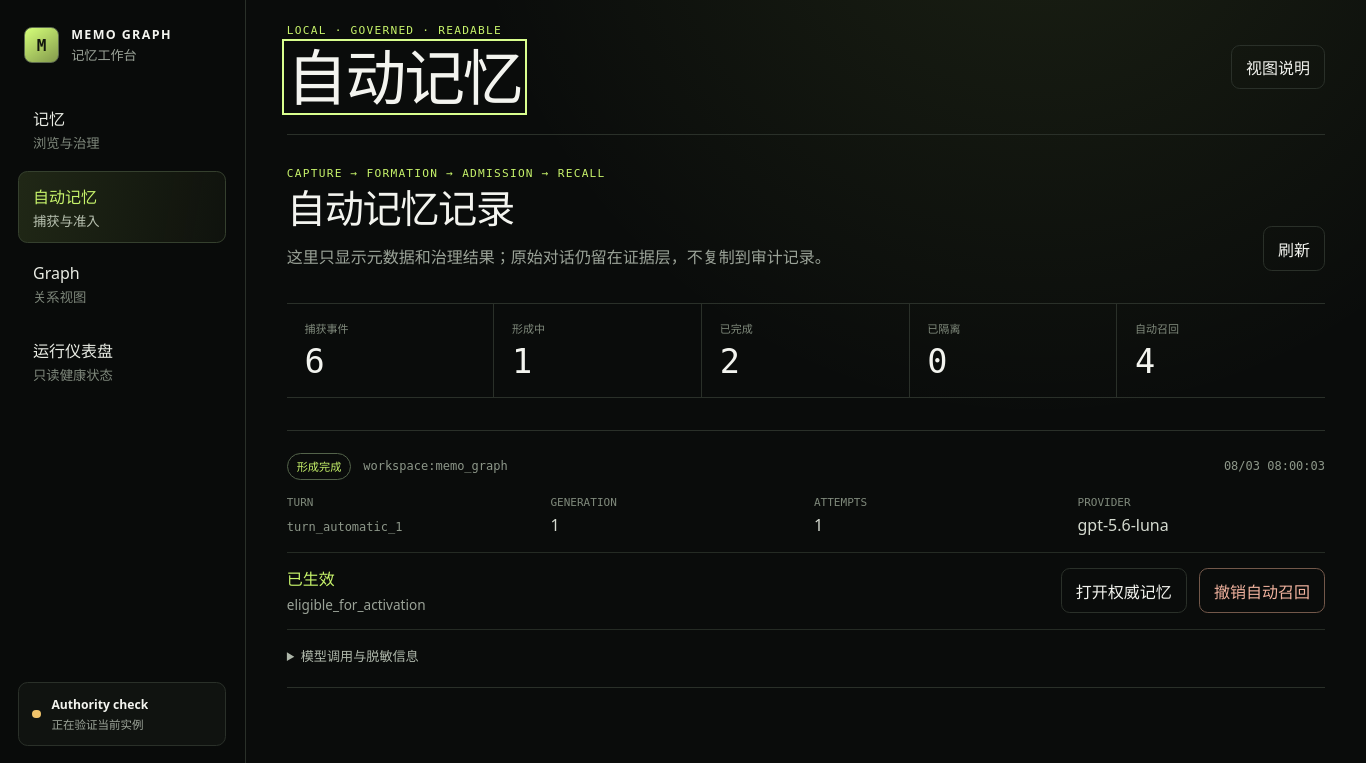
Test: automatic memory workbench › shows formation lineage and requires preview-confirm before undo
This screenshot has width=1366, height=763.
Expected: the heading "自动记忆记录" is shown, [287,181,514,234]
Expected: the text "6" is shown, [304,342,325,380]
Click the button "撤销自动召回" at (1262, 591), box [1199,568,1325,613]
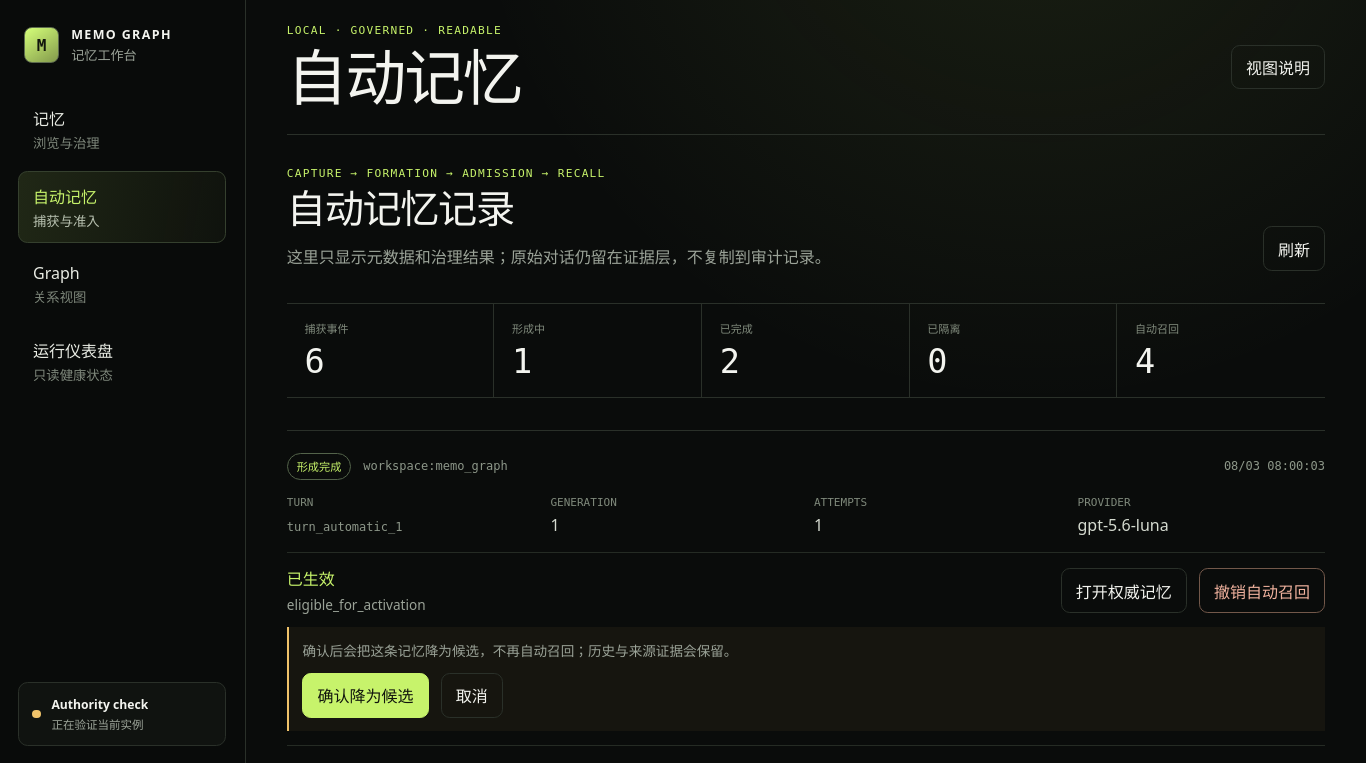
Result: the text "确认后会把这条记忆降为候选，不再自动召回；历史与来源证据会保留。" is shown at [302,641,737,660]
Click the button "确认降为候选" at (366, 695), box [302,673,429,718]
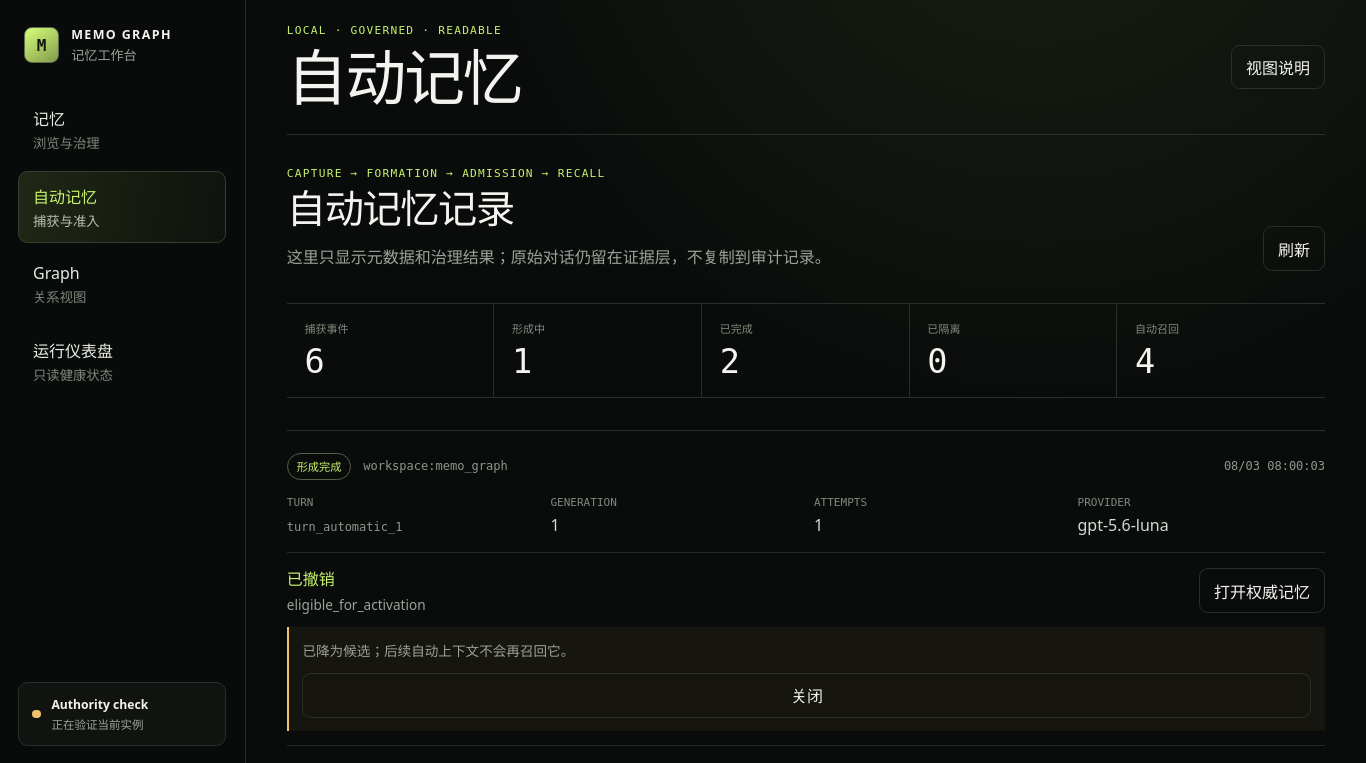
Result: the text "已降为候选；后续自动上下文不会再召回它。" is shown at [302,641,574,660]
Result: the text "已撤销" is shown at [287,568,335,590]
